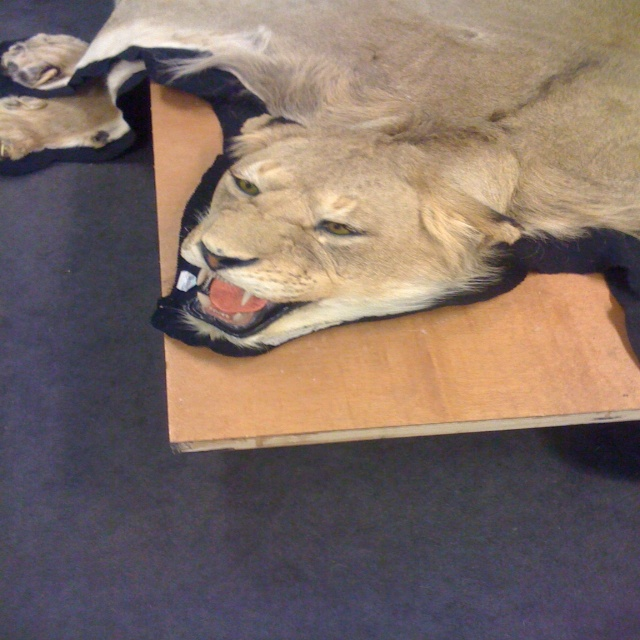Lion: (0, 0, 639, 354)
